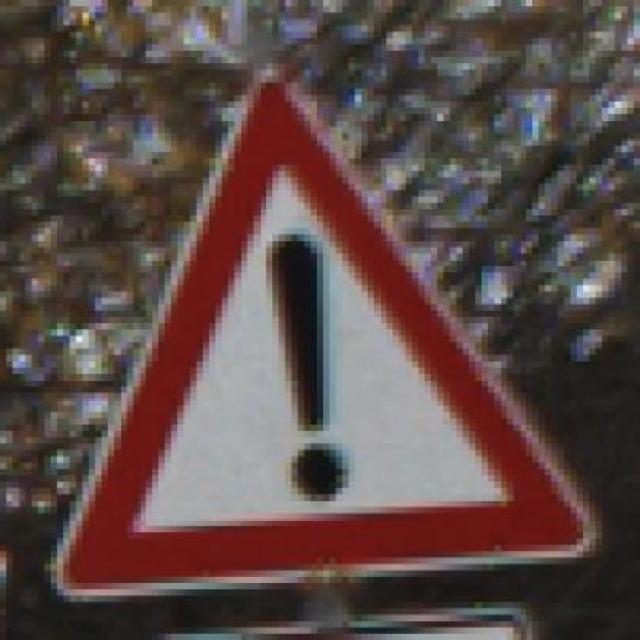Attention Please-: (26, 64, 614, 608)
